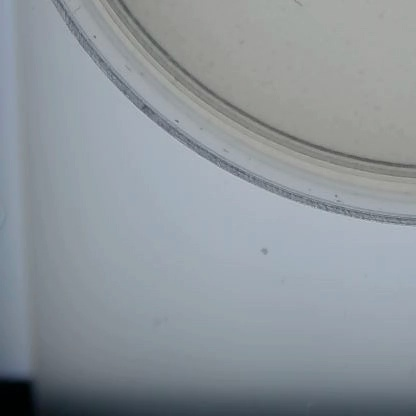worm: (283, 0, 307, 13)
